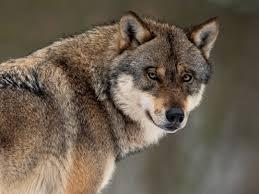Wolf: (1, 10, 223, 194)
